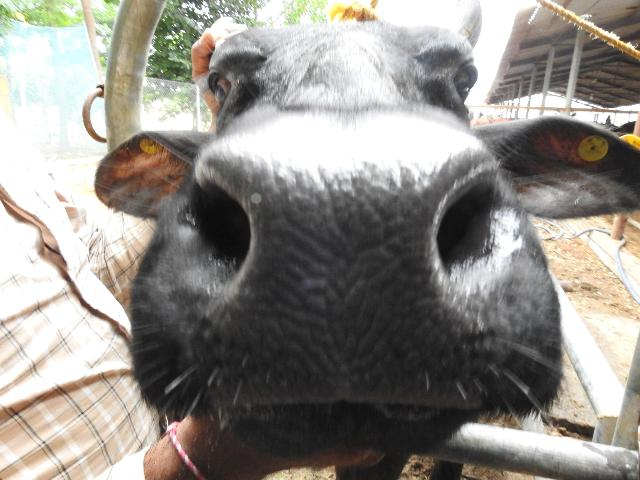Muzzle: (250, 157, 436, 394)
